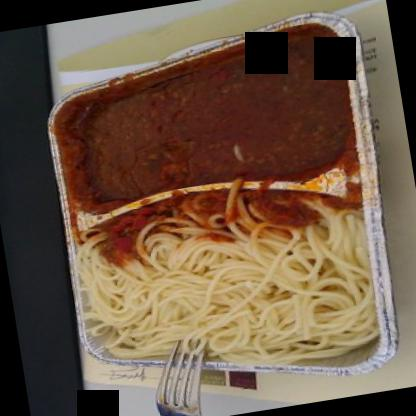pasta: (60, 172, 390, 388)
